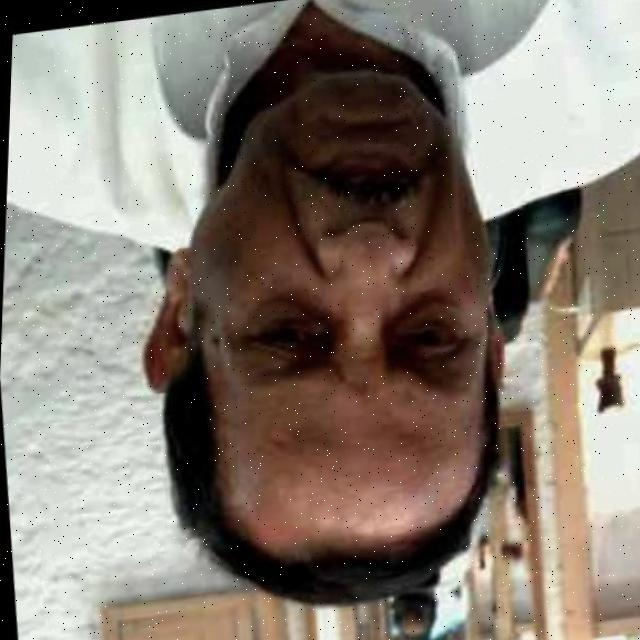puffy_eyes: (240, 296, 328, 322)
